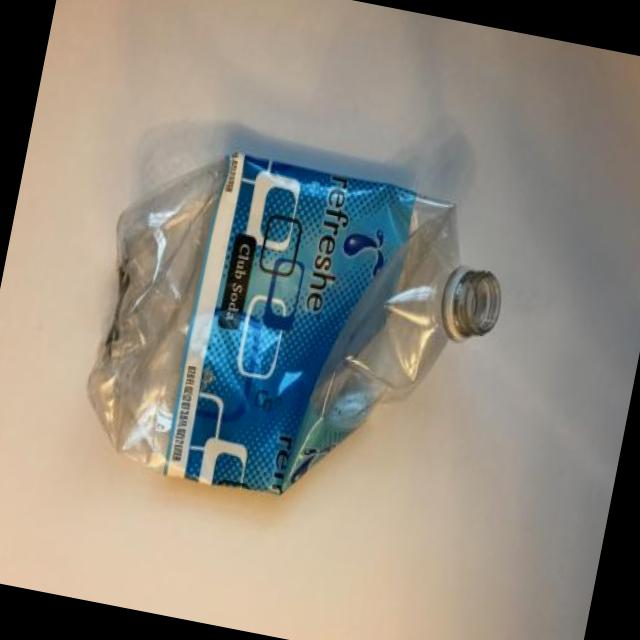Recycle: (67, 126, 520, 529)
